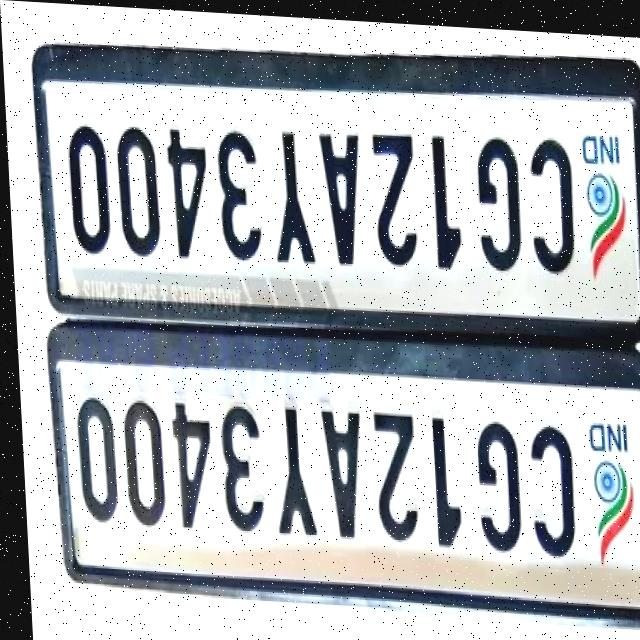plate: (24, 15, 640, 348), (50, 317, 640, 638)
